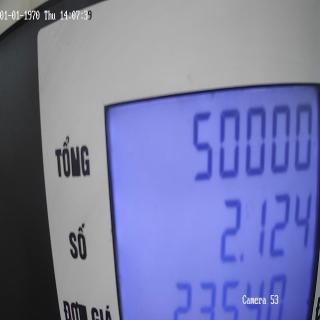screen: (99, 79, 318, 320)
